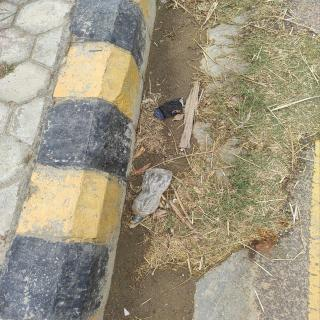Plastic-bottle: (130, 167, 175, 226)
